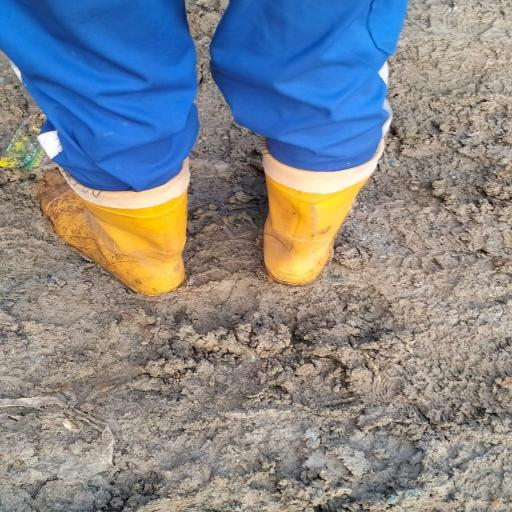safety_shoe: (36, 162, 199, 296), (251, 152, 358, 286)
